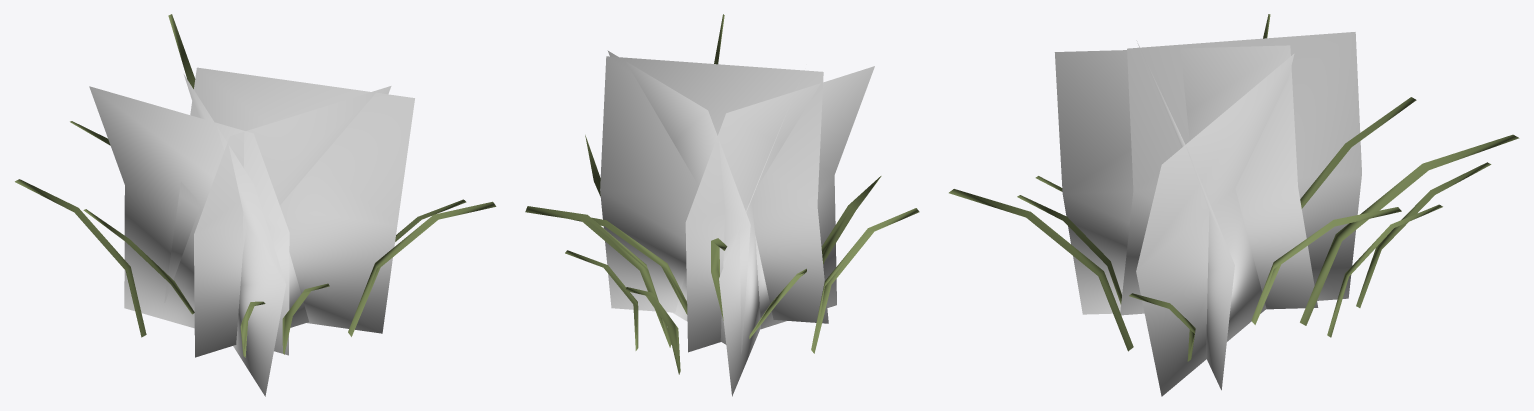
File: V7_Herbes_0_Niveau1.fbx
3 views of the same model, side by side, from view 1: azimuth 30°, elevation 25°; view 2: azimuth 150°, elevation 25°; view 3: azimuth 270°, elevation 25° (orthographic). The views are drawn at different scales.
Visible parts, largest first — view 1: V7_Herbes_0_Detail1; view 2: V7_Herbes_0_Detail1; view 3: V7_Herbes_0_Detail1.
Boxes of the visible parts, x1=… form: V7_Herbes_0_Detail1: x1=15, y1=14, x2=496, y2=396; V7_Herbes_0_Detail1: x1=525, y1=14, x2=919, y2=396; V7_Herbes_0_Detail1: x1=949, y1=14, x2=1519, y2=396.
Bounding box in the file's own units: 59.18 × 36.82 × 68.89.
